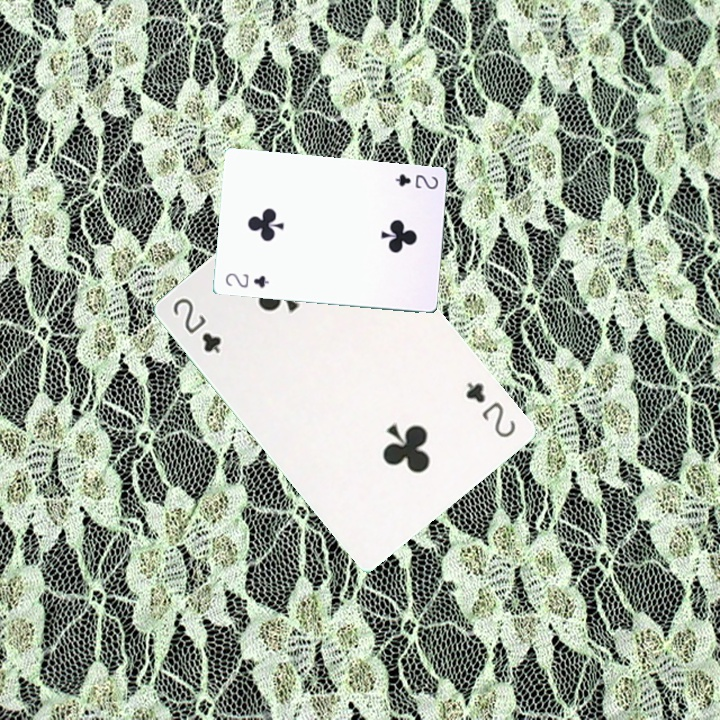2c: (461, 377, 519, 441), (168, 293, 224, 356), (221, 269, 271, 291), (391, 170, 441, 192)
